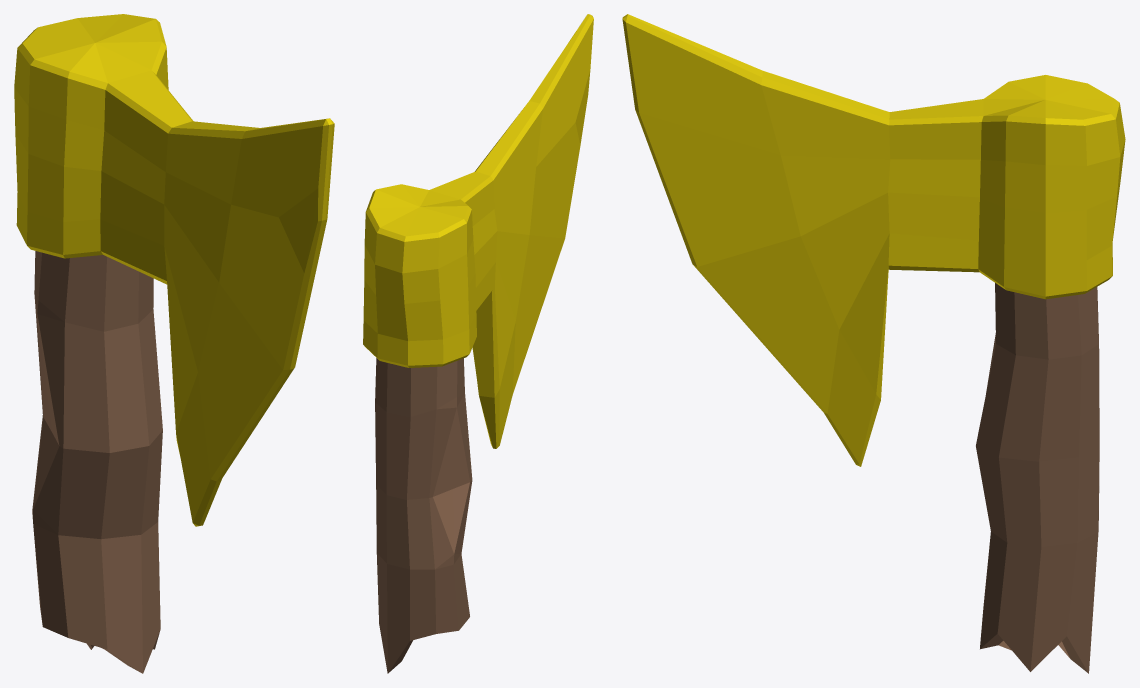
The model's file is Axe_02_Destroyed_Gold.fbx.
3 views of the same model, side by side, from view 1: azimuth 30°, elevation 25°; view 2: azimuth 150°, elevation 25°; view 3: azimuth 270°, elevation 25° (orthographic). The views are drawn at different scales.
Parts seen in each view (by area): view 1: Axe_02_Destroyed_Gold; view 2: Axe_02_Destroyed_Gold; view 3: Axe_02_Destroyed_Gold.
Boxes of the visible parts, x1,y1,x2,y2 form: Axe_02_Destroyed_Gold: (14, 14, 334, 673); Axe_02_Destroyed_Gold: (363, 14, 593, 673); Axe_02_Destroyed_Gold: (622, 14, 1125, 673).
Bounding box in the file's own units: 13.94 × 70.65 × 49.54.
